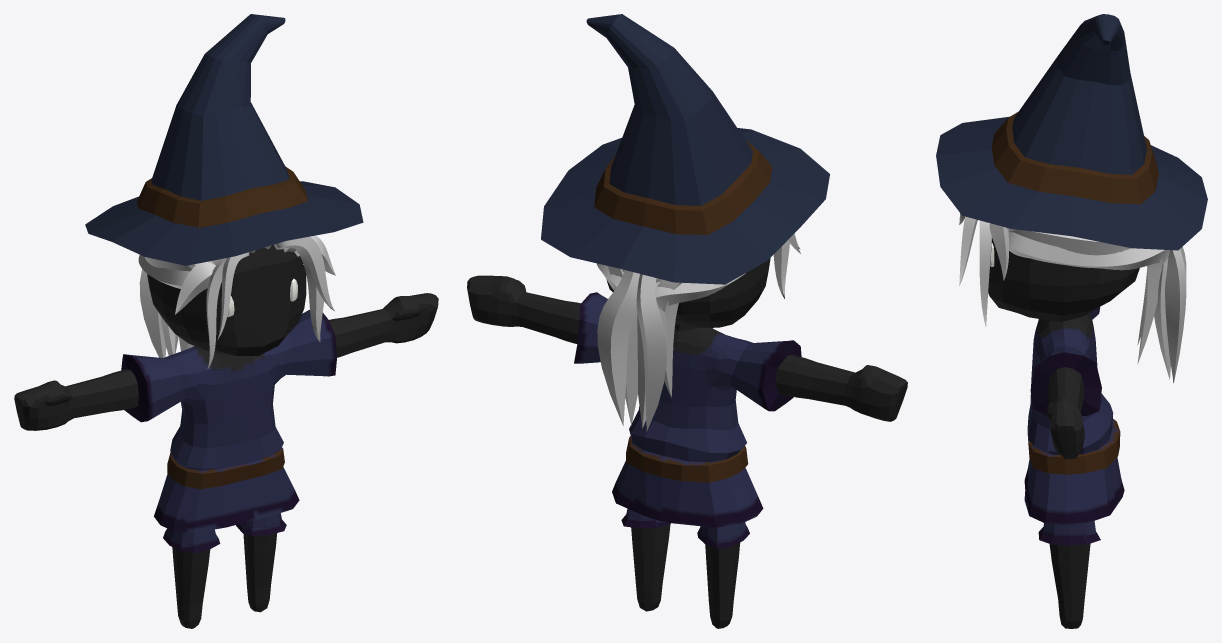
The model's file is Witch.fbx.
3 renders of one model, left to right at view 1: azimuth 30°, elevation 25°; view 2: azimuth 150°, elevation 25°; view 3: azimuth 270°, elevation 25°, orthographic. The views are drawn at different scales.
Visible parts, largest first — view 1: Body; view 2: Body; view 3: Body.
Boxes of the visible parts, <box> form: Body: <box>14,14,438,628</box>; Body: <box>467,14,907,628</box>; Body: <box>936,14,1207,628</box>.
Size of the model in its own units: 324 by 429 by 170.
Materials: 1 (1 with a texture image).
